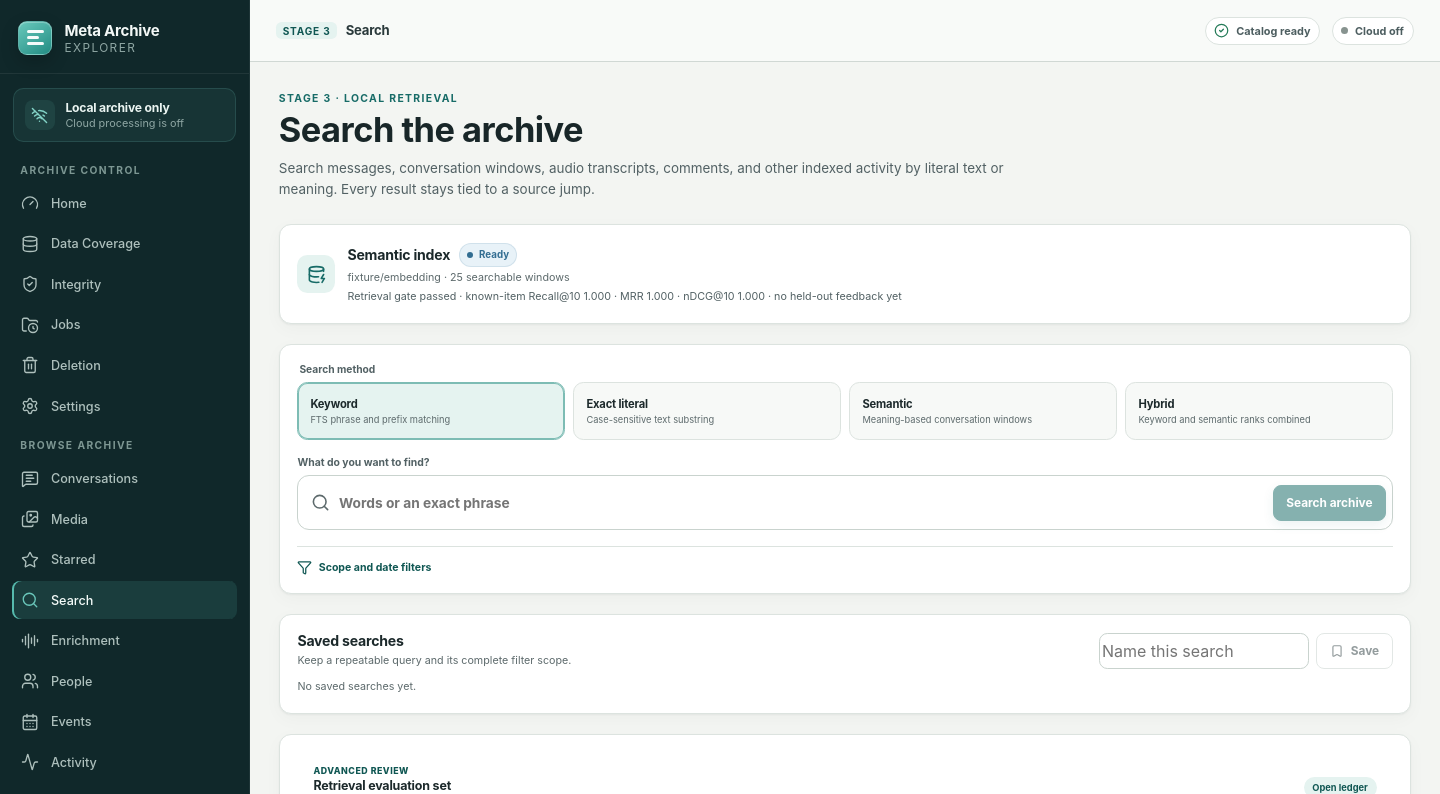
Scenario: Stage 3 search experience › runs semantic search with scoped filters and a source jump
Expected: the heading "Search the archive" is shown, [279, 109, 583, 150]
Expected: the text "fixture/embedding · 25 searchable windows" is shown, [347, 271, 570, 284]
Click the radio button "Semantic". click: (983, 411)
box: [849, 382, 1117, 440]
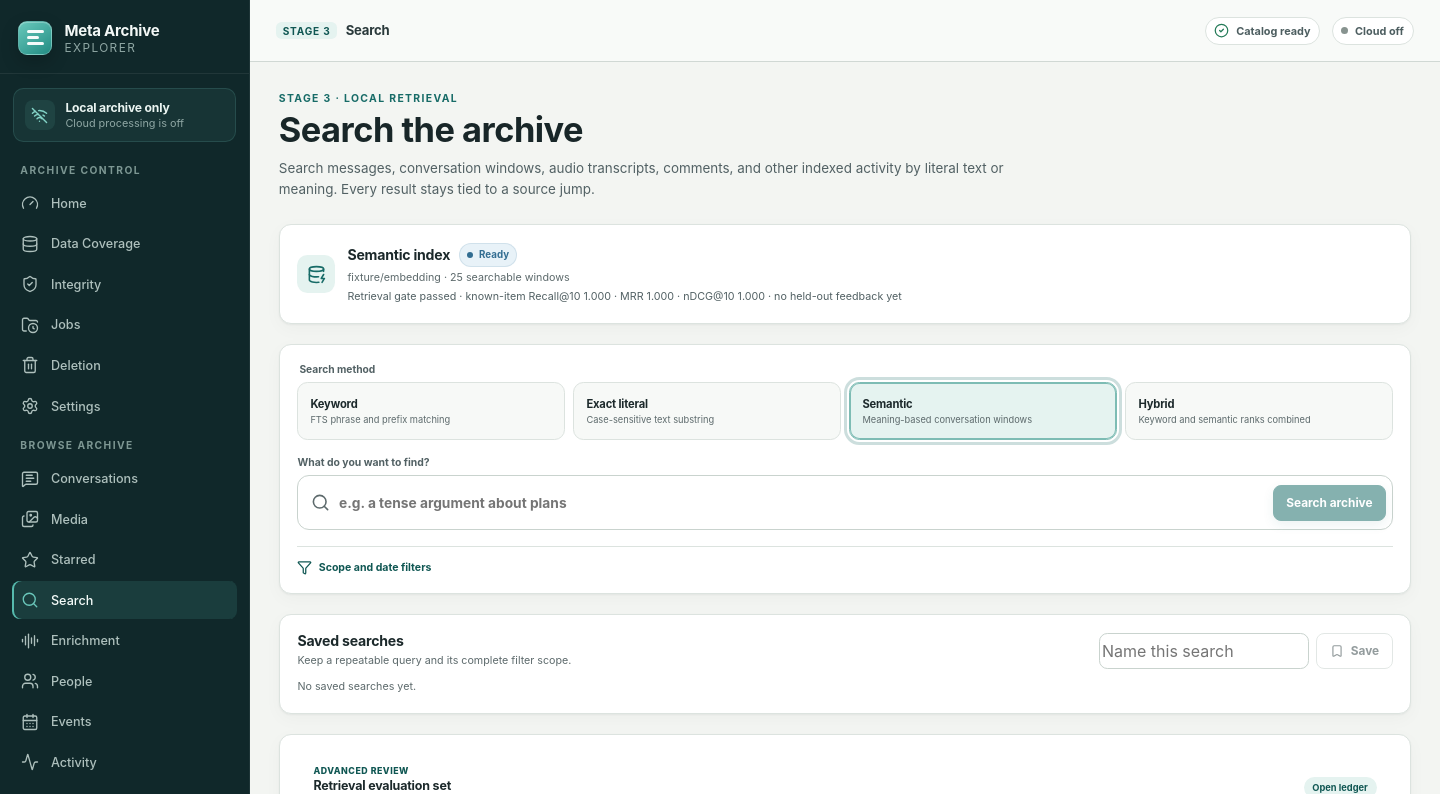
Type "argument" into the field labelled "What do you want to find?". click: (802, 503)
box: [339, 482, 1264, 524]
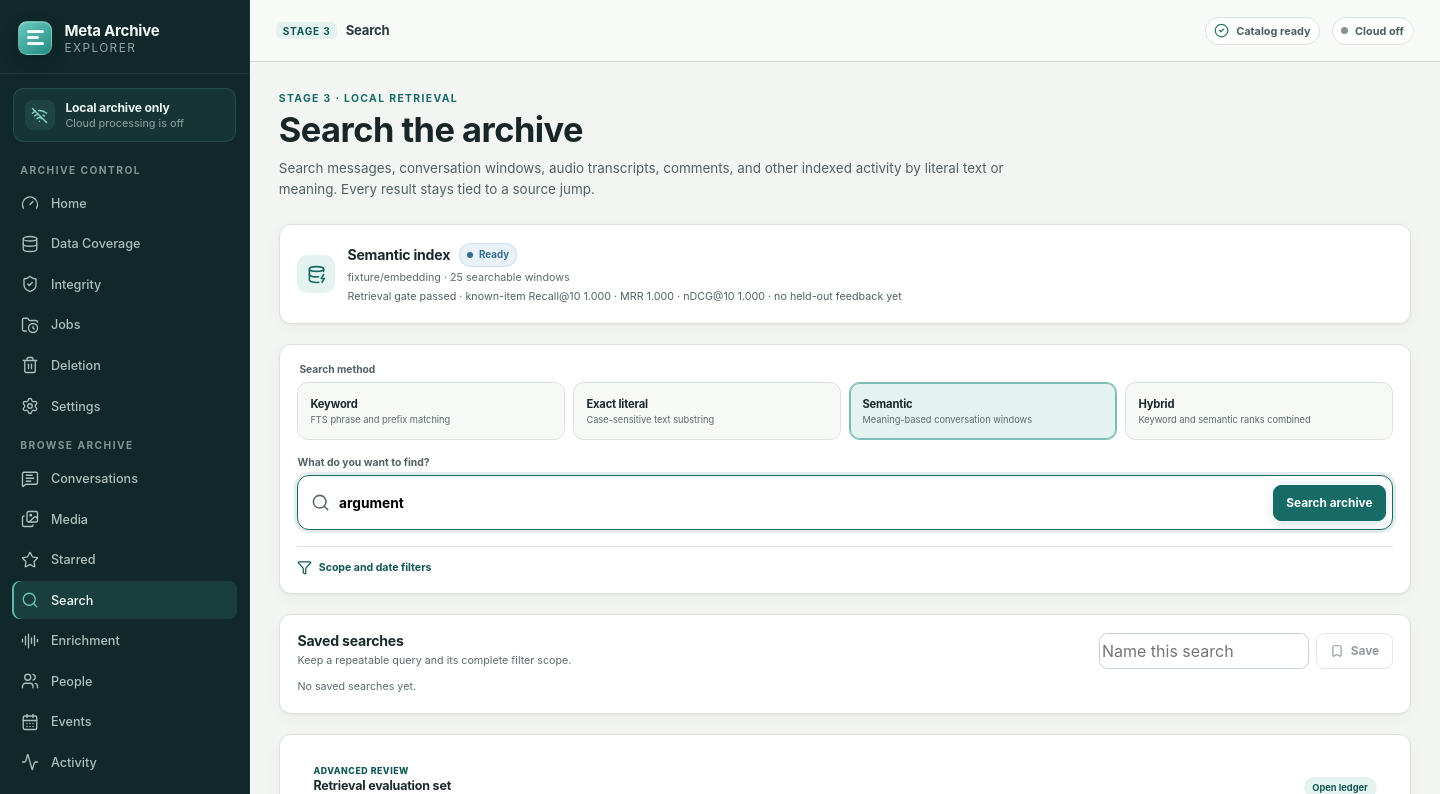
Click the heading "Scope and date filters". click: (364, 568)
box: [297, 560, 431, 575]
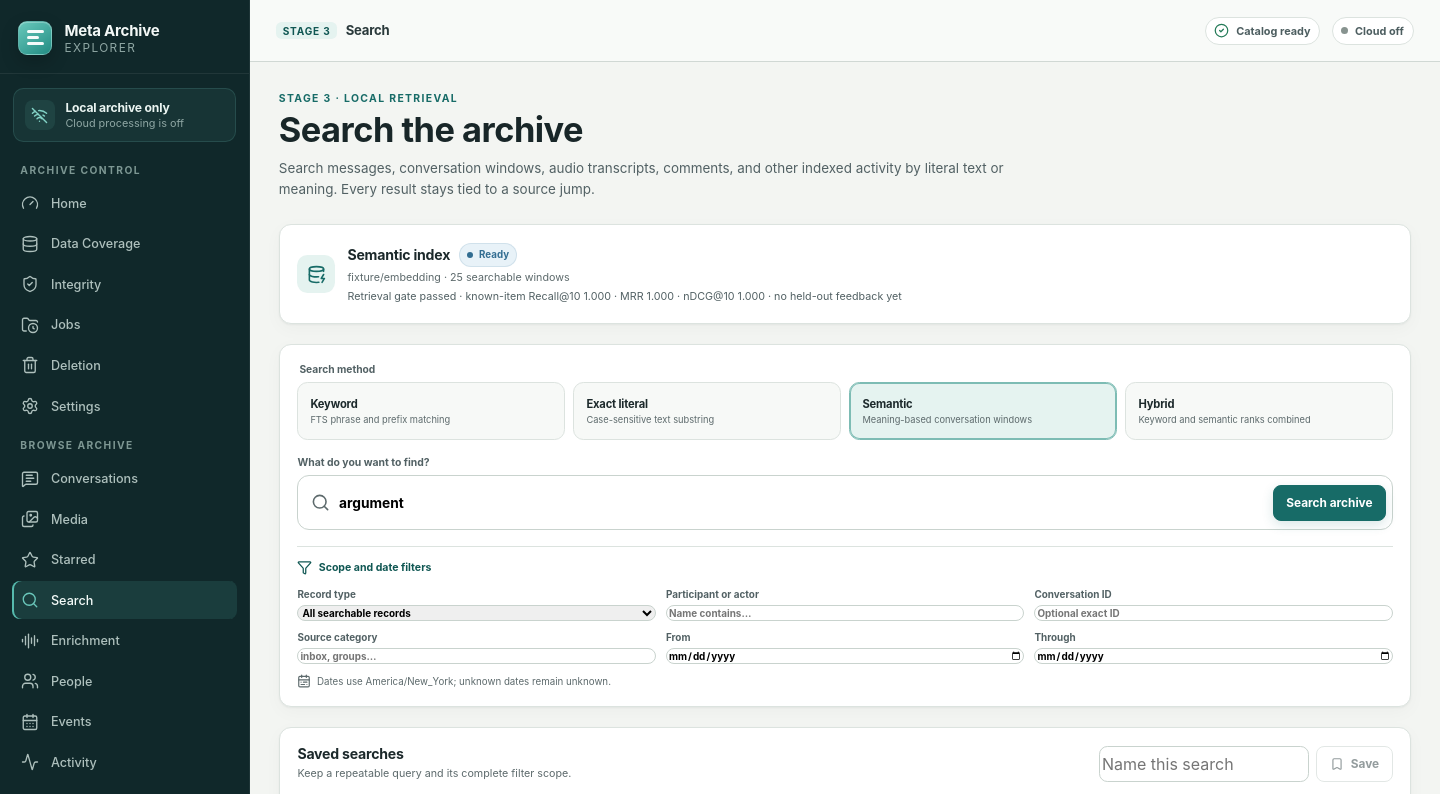
Select "Messages only" in the dropdown labelled "Record type". click: (476, 613)
box: [297, 605, 656, 621]
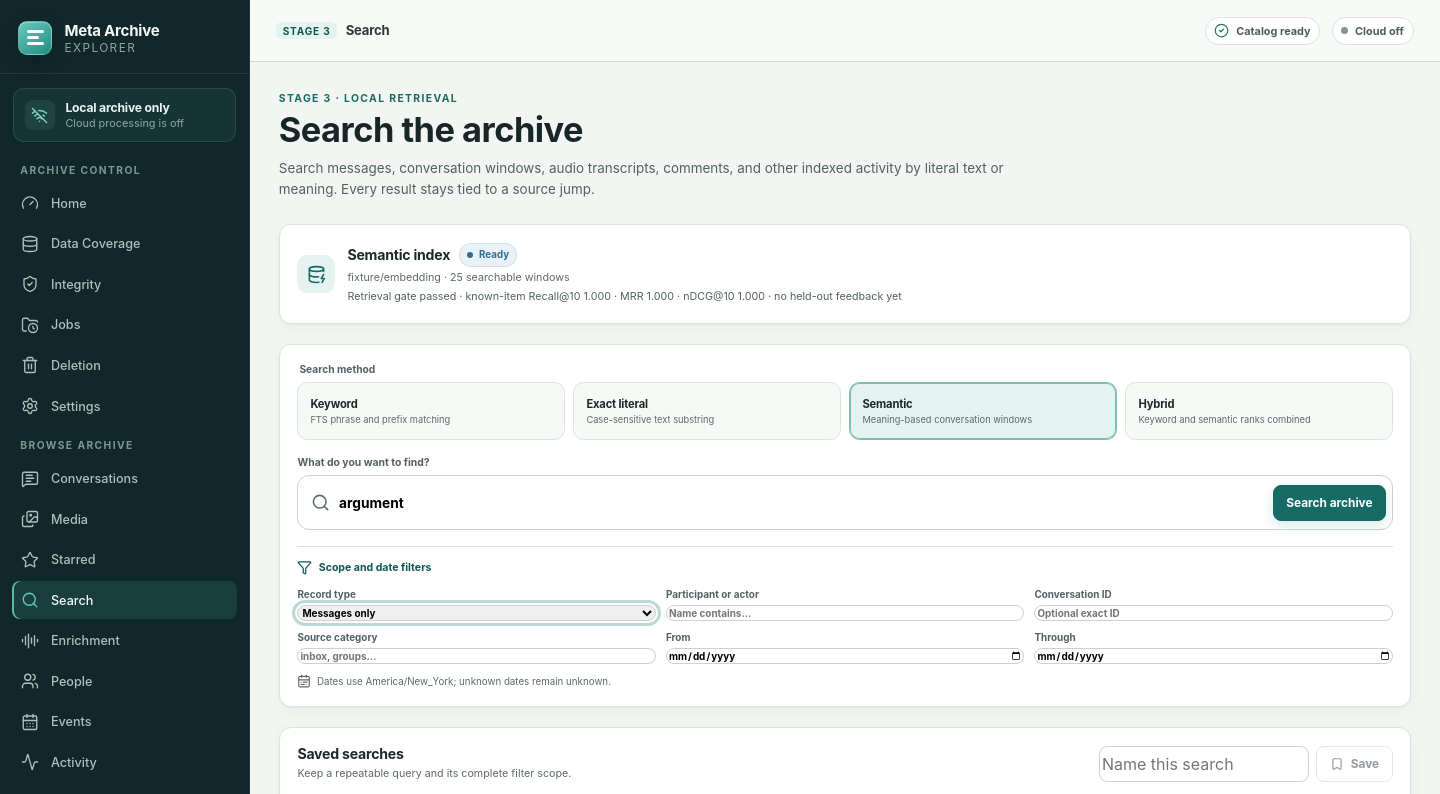
Type "Alex Example" into the field labelled "Participant or actor". click: (845, 613)
box: [666, 605, 1024, 621]
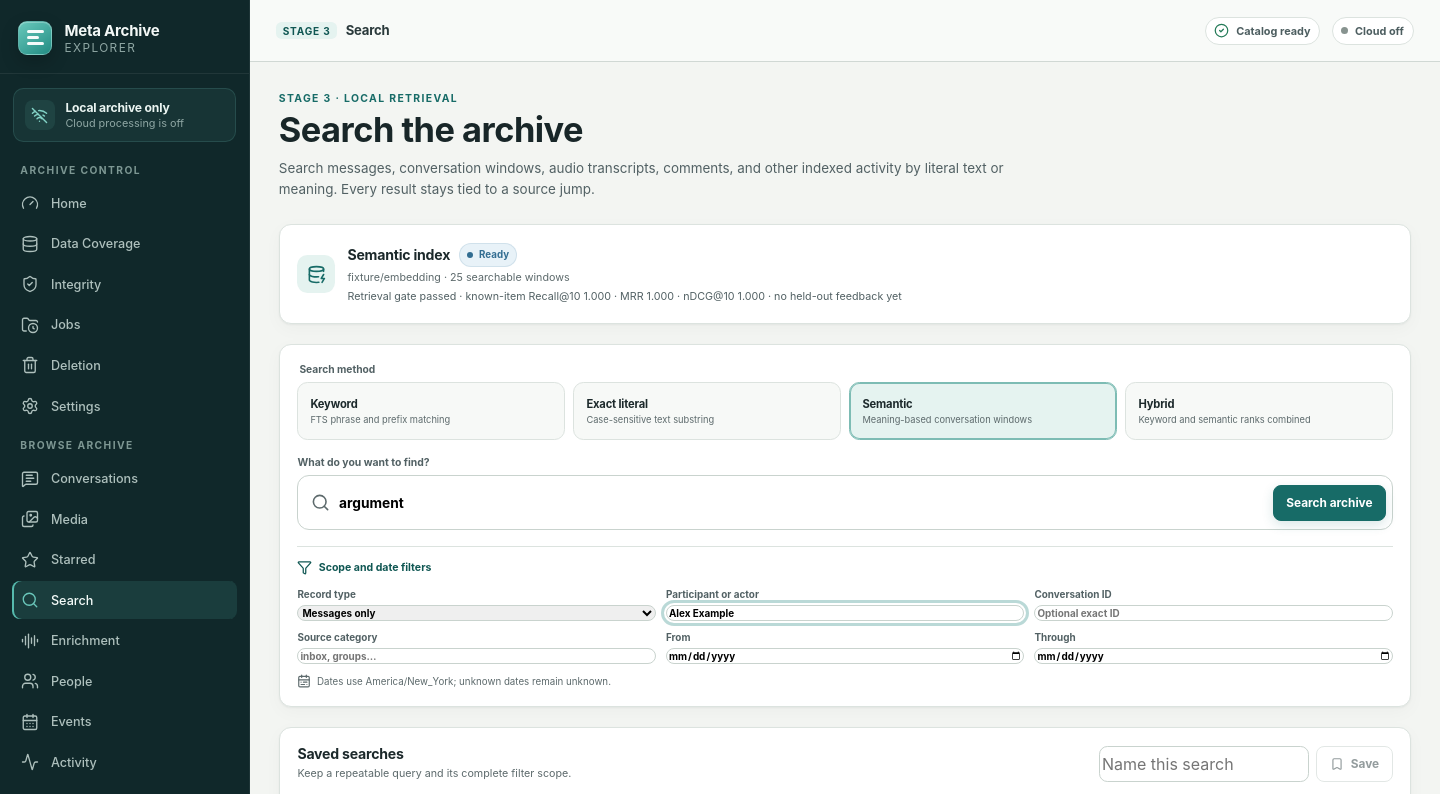
Click the button "Search archive". click: (1329, 503)
box: [1273, 485, 1386, 521]
(page scrolled)
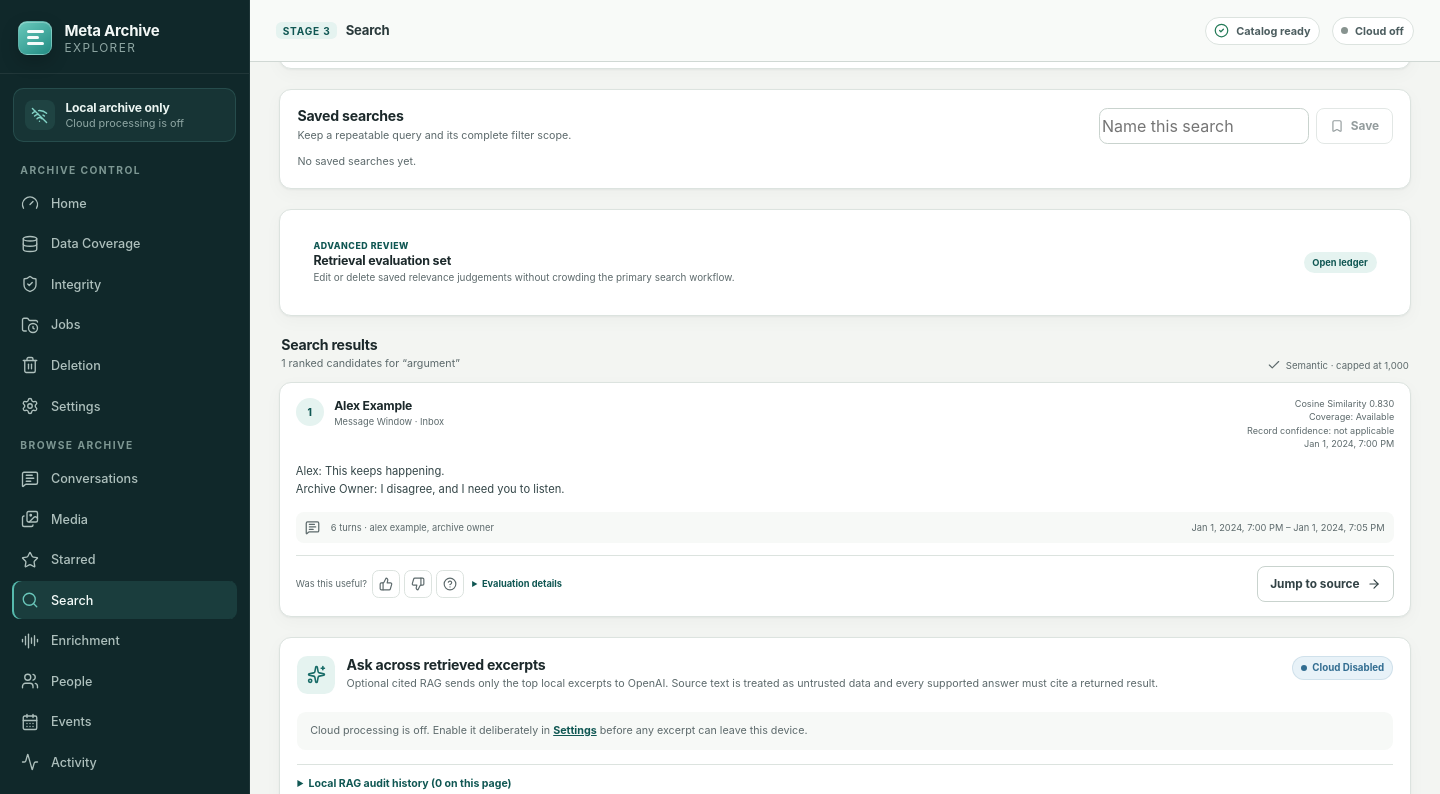
Expected: the text "This keeps happening" is shown, [296, 464, 564, 496]
Expected: the heading "Alex Example" is shown, [334, 398, 412, 413]
